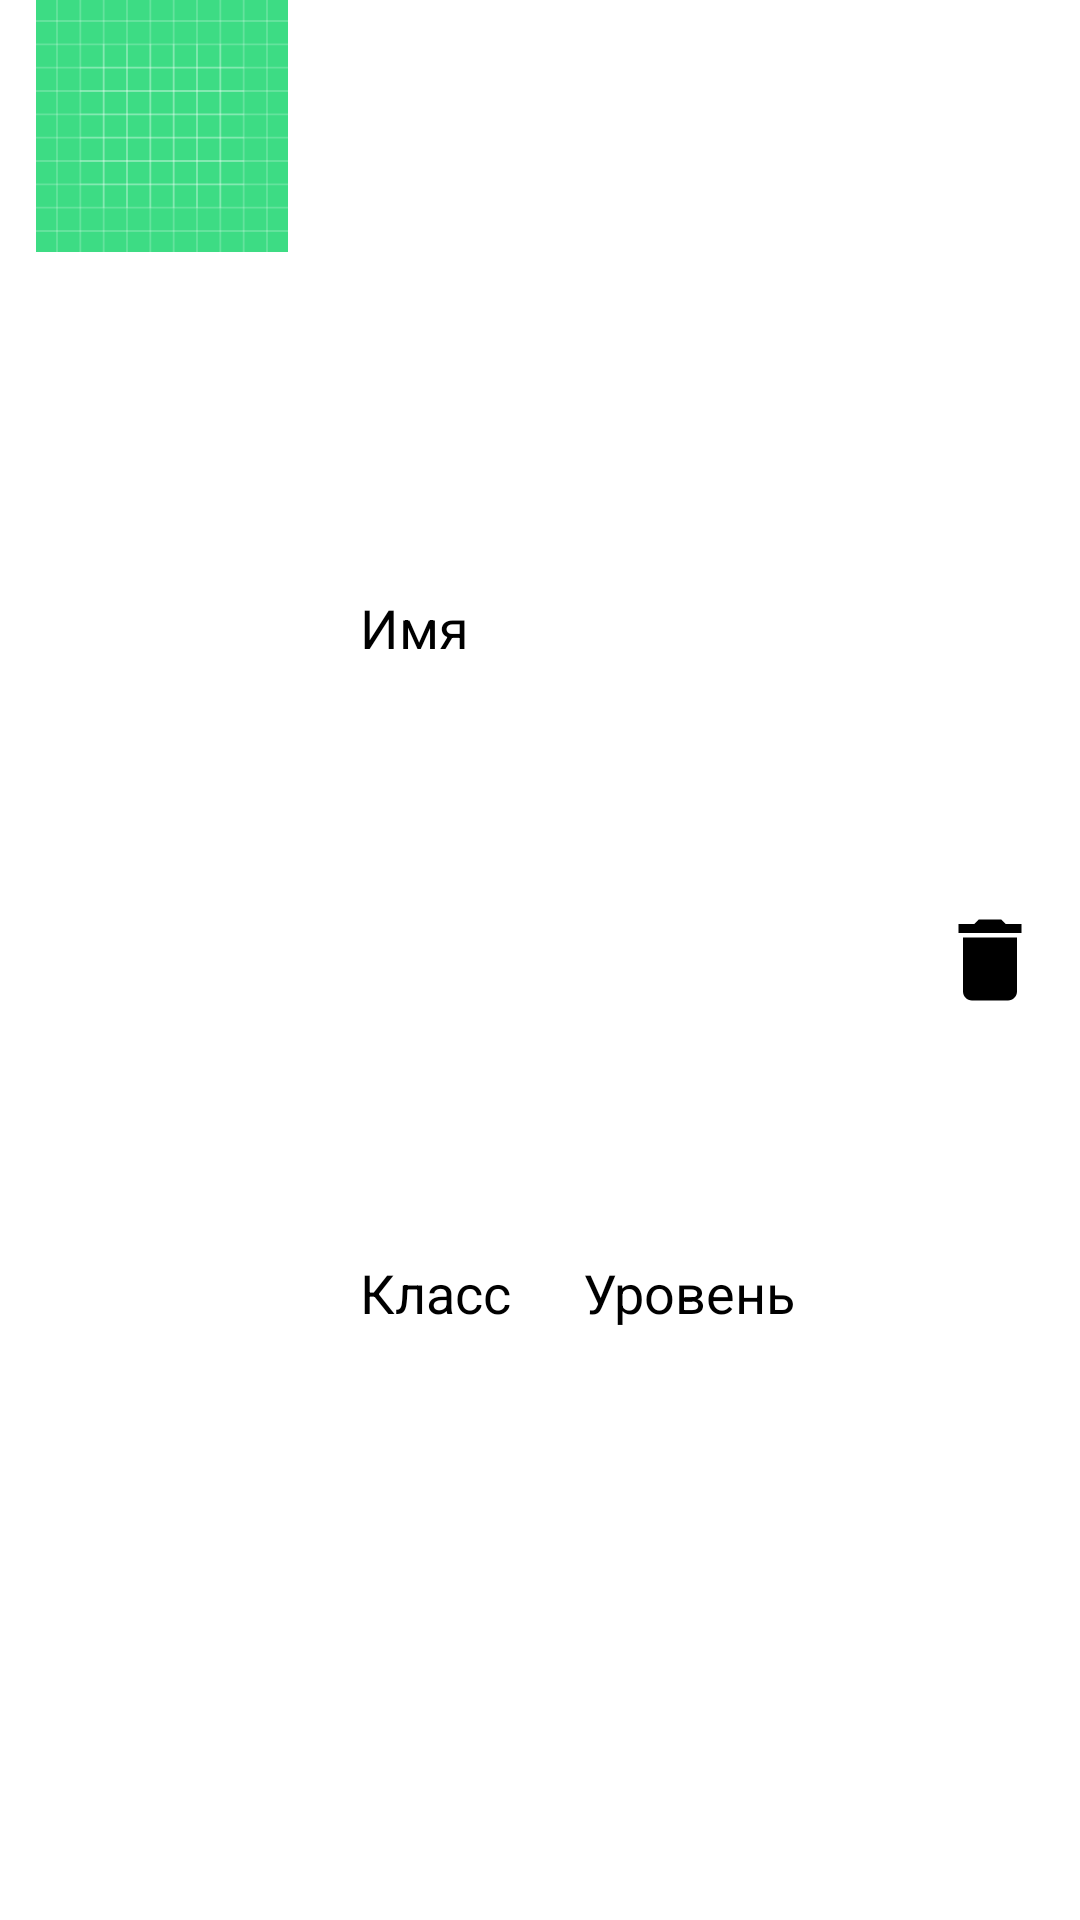

Icon click points for this 1080×1920 phone screenshot, format (x=x, y=y):
delete: (x=990, y=960)
